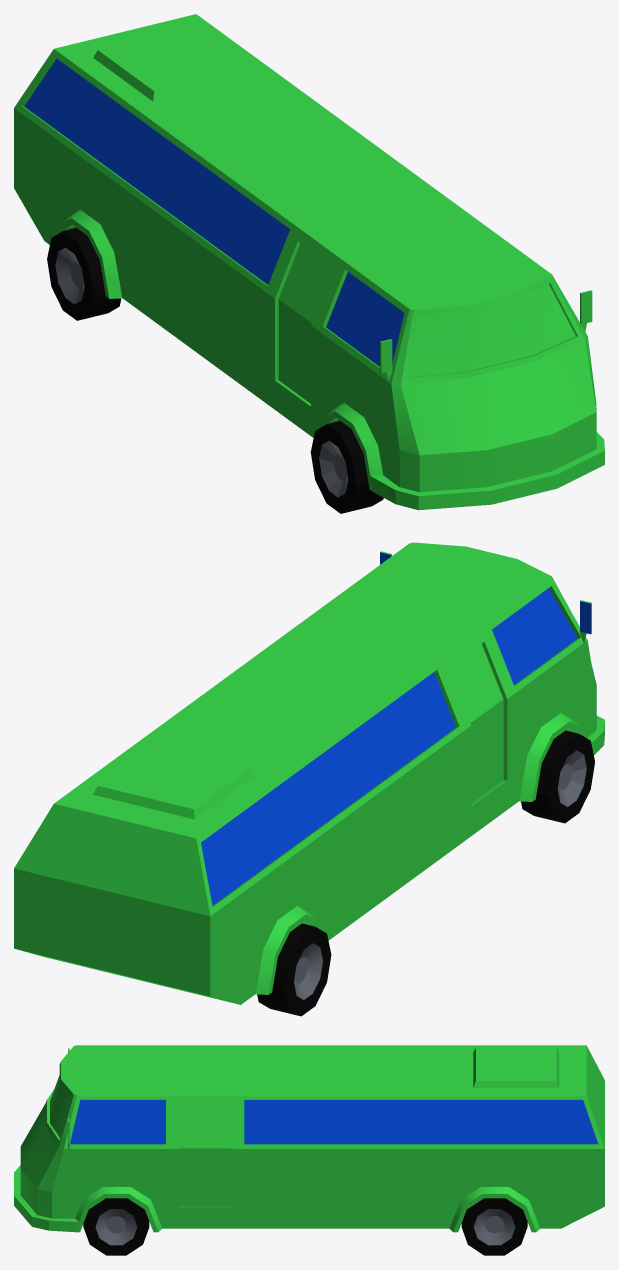
The model's file is autobus_3.FBX.
3 views of the same model, one above another, from view 1: azimuth 30°, elevation 25°; view 2: azimuth 150°, elevation 25°; view 3: azimuth 270°, elevation 25° (orthographic). The views are drawn at different scales.
Visible parts, largest first — view 1: Autobus; view 2: Autobus; view 3: Autobus.
Boxes of the visible parts, box(x1,y1,x2,y2) form: Autobus: box(14, 14, 604, 513); Autobus: box(14, 542, 604, 1016); Autobus: box(14, 1045, 604, 1255).
Size of the model in its own units: 127 by 115 by 398.
